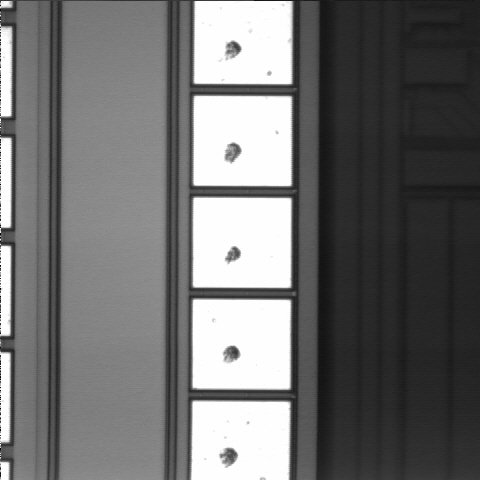pad: (193, 198, 291, 288), (193, 299, 291, 389), (194, 96, 291, 186)
